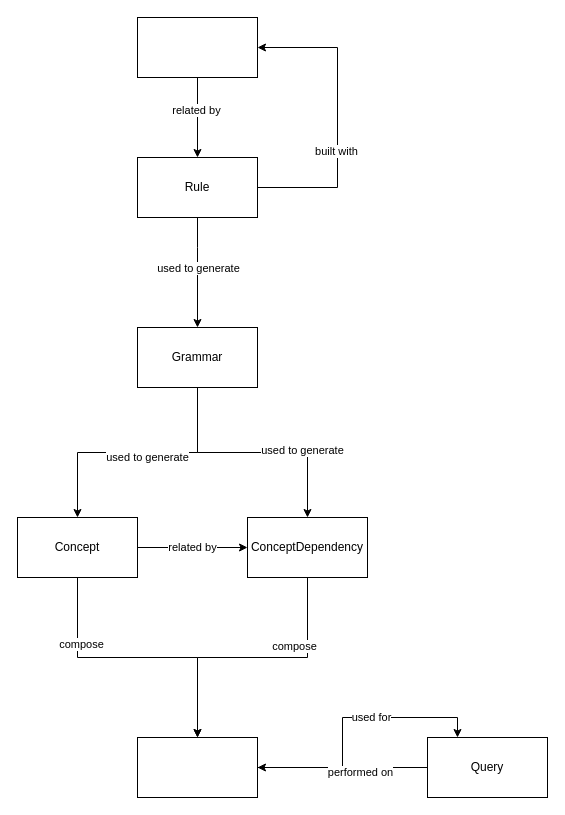
Image size: 565x815. Some labels were removed from this diagram. The shapes that lost their labels are listed below. From the top down, each one's centre as x and y in pixels, then its label:
At [197,47]: "Symbol".
At [197,767]: "ConceptLattice".
